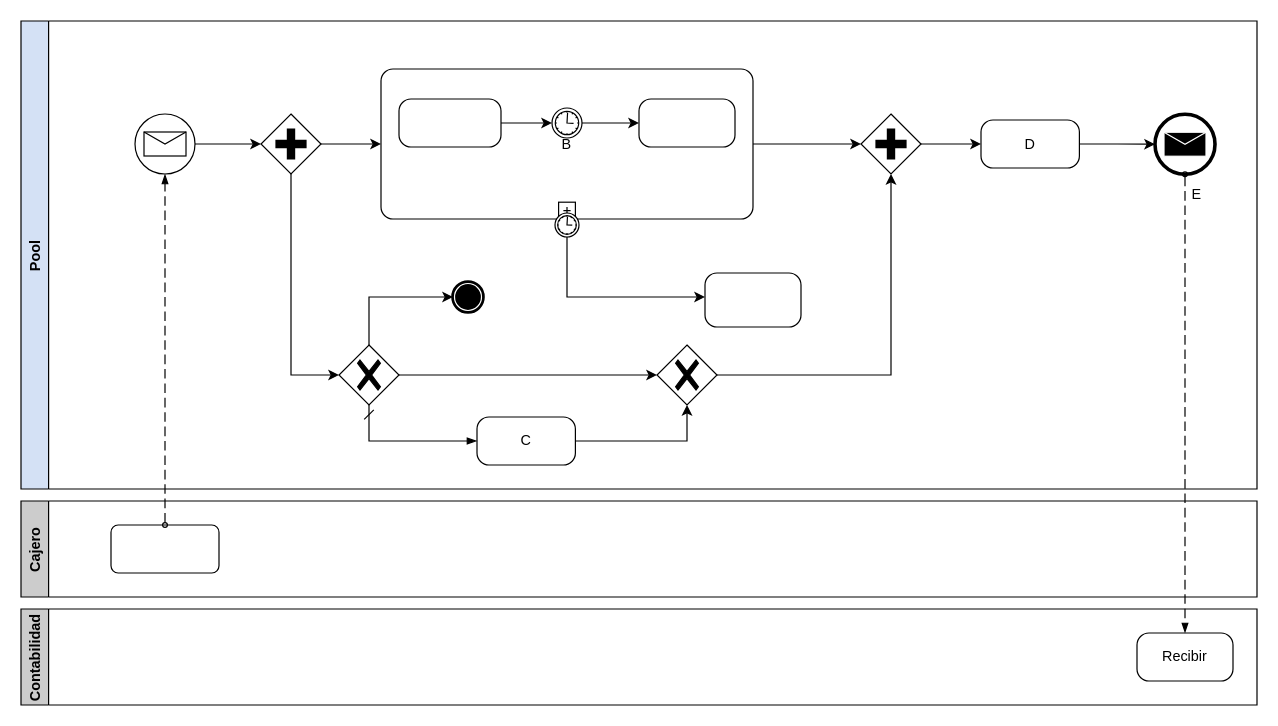
Some shapes in this 1278 by 726 pixel diagram are drawn without their labels. Each missing label, with the centre of its shape:
"B1" goes at [449,122].
"B2" goes at [686,122].
"Enviar" goes at [164,548].
"Escalar" goes at [752,299].
